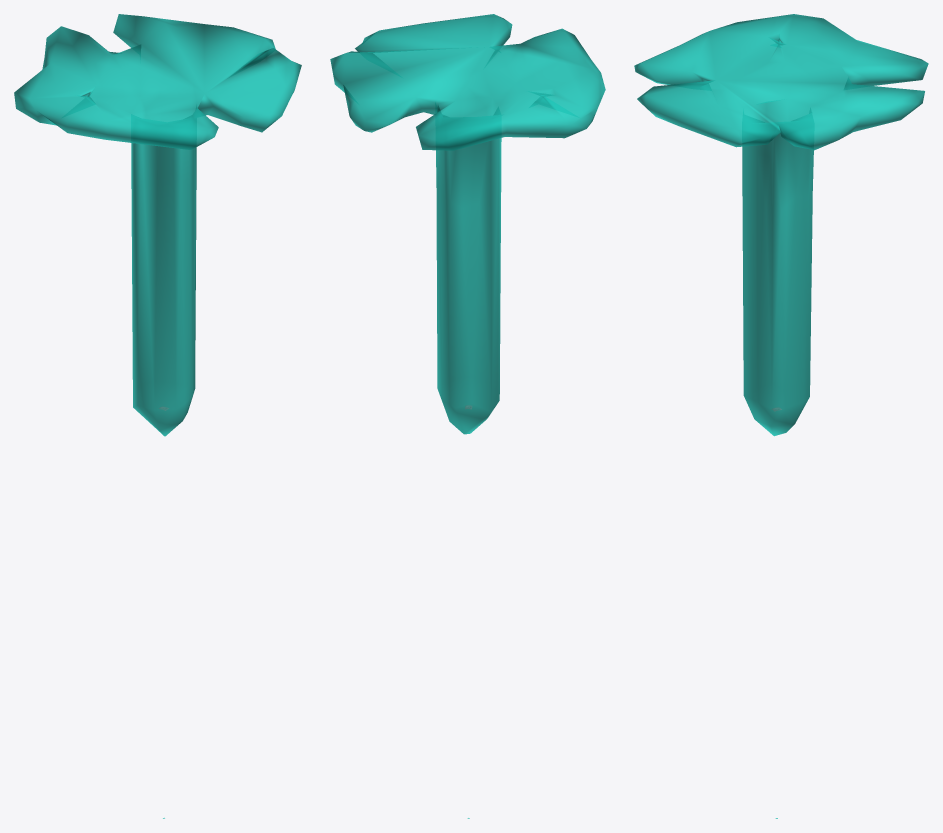
3 views of the same model, side by side, from view 1: azimuth 30°, elevation 25°; view 2: azimuth 150°, elevation 25°; view 3: azimuth 270°, elevation 25° (orthographic).
Visible parts, largest first — view 1: Liquid_Domain; view 2: Liquid_Domain; view 3: Liquid_Domain.
Boxes of the visible parts, bbox=[...] form: Liquid_Domain: bbox=[14, 14, 301, 436]; Liquid_Domain: bbox=[330, 14, 605, 434]; Liquid_Domain: bbox=[634, 14, 928, 436].
Bounding box in the file's own units: 546 × 1517 × 545.
